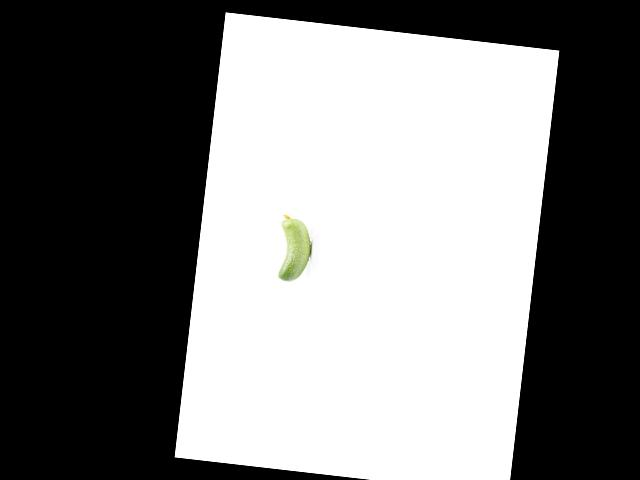cucumber: (274, 214, 315, 284)
